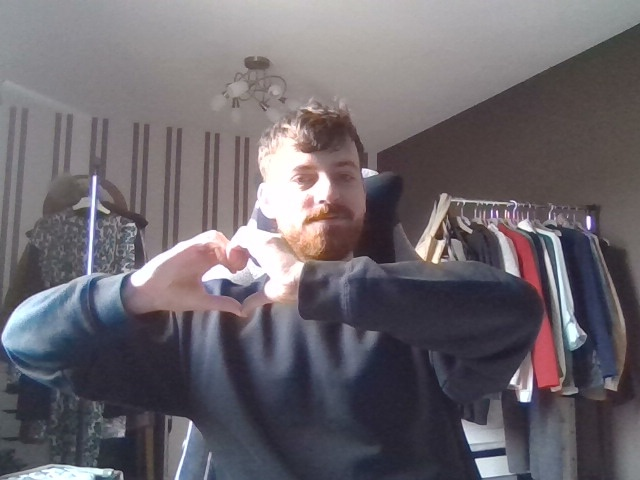Love: (125, 215, 308, 343)
